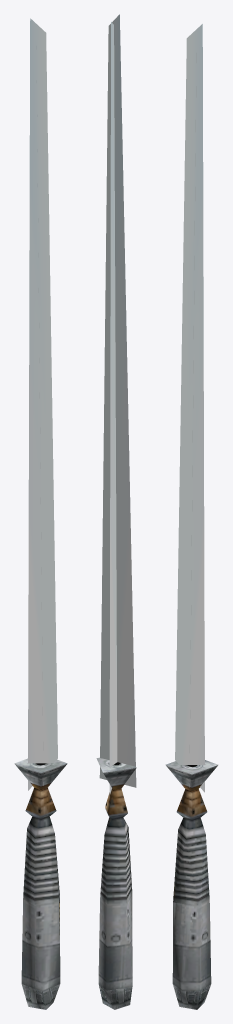
Rendered from wp_mle_sword_lightsaber_luke_2h_l2.fbx.
3 renders of one model, left to right at view 1: azimuth 90°, elevation 25°; view 2: azimuth 150°, elevation 25°; view 3: azimuth 270°, elevation 25°, orthographic.
Parts seen in each view (by area): view 1: mesh_node; view 2: mesh_node; view 3: mesh_node.
Part boxes in pixels (left/top/right/bottom): mesh_node: left=14, top=18, right=67, bottom=1009; mesh_node: left=96, top=14, right=136, bottom=1009; mesh_node: left=165, top=24, right=218, bottom=1009.
Size of the model in its own units: 0.048 by 1.13 by 0.0554.
